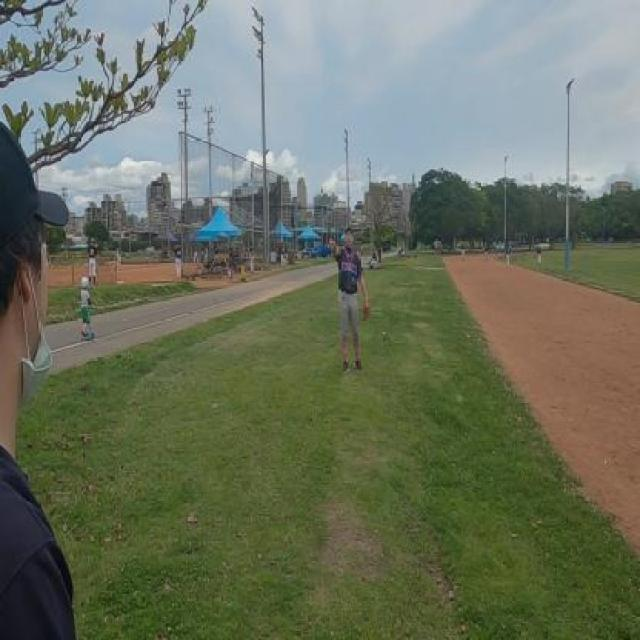baseball: (319, 187, 324, 193)
